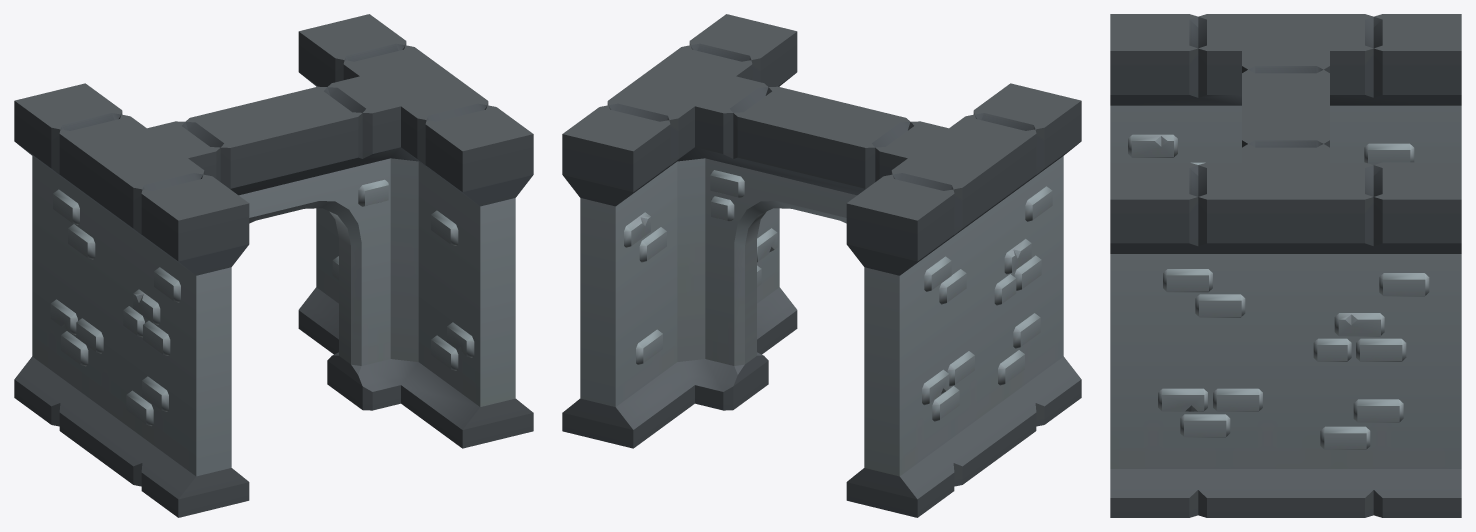
Rendered from wall-doorway-sides-gltf.glb.
3 renders of one model, left to right at view 1: azimuth 30°, elevation 25°; view 2: azimuth 150°, elevation 25°; view 3: azimuth 270°, elevation 25°, orthographic. The views are drawn at different scales.
Visible parts, largest first — view 1: wall_doorway_sides; view 2: wall_doorway_sides; view 3: wall_doorway_sides.
Boxes of the visible parts, x1=… form: wall_doorway_sides: x1=14, y1=14, x2=533, y2=517; wall_doorway_sides: x1=562, y1=14, x2=1081, y2=517; wall_doorway_sides: x1=1110, y1=14, x2=1461, y2=517.
Bounding box in the file's own units: 5 × 4 × 4.
Materials: 1 (1 with a texture image).
